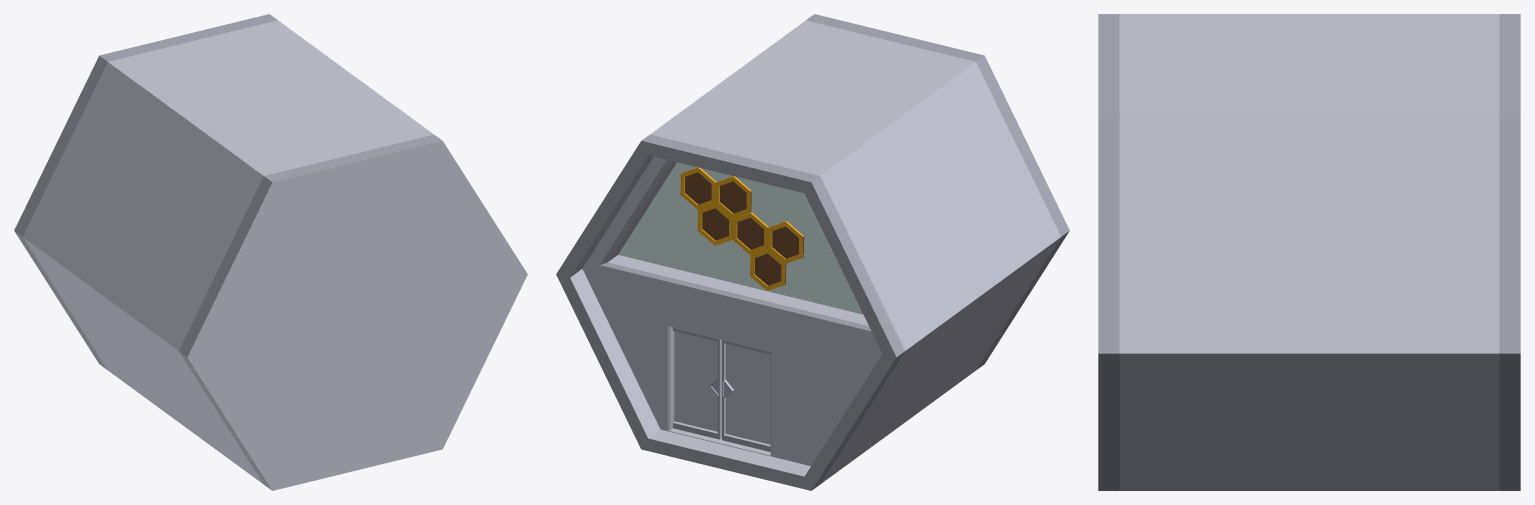
The model's file is DOMBABIKAPI(1).fbx.
The picture shows the model from 3 angles, left to right: view 1: azimuth 30°, elevation 25°; view 2: azimuth 150°, elevation 25°; view 3: azimuth 270°, elevation 25°; orthographic projection. The views are drawn at different scales.
Parts seen in each view (by area): view 1: Plane; view 2: Plane, Plane.011, Plane.004, Plane.001; view 3: Plane.
Part boxes in pixels (bbox=[...]): Plane: bbox=[14, 14, 527, 490]; Plane: bbox=[556, 14, 1069, 490]; Plane.011: bbox=[680, 167, 803, 290]; Plane.004: bbox=[722, 340, 770, 451]; Plane.001: bbox=[673, 328, 721, 439]; Plane: bbox=[1098, 14, 1520, 490].
Bounding box in the file's own units: 536 × 464 × 472.
